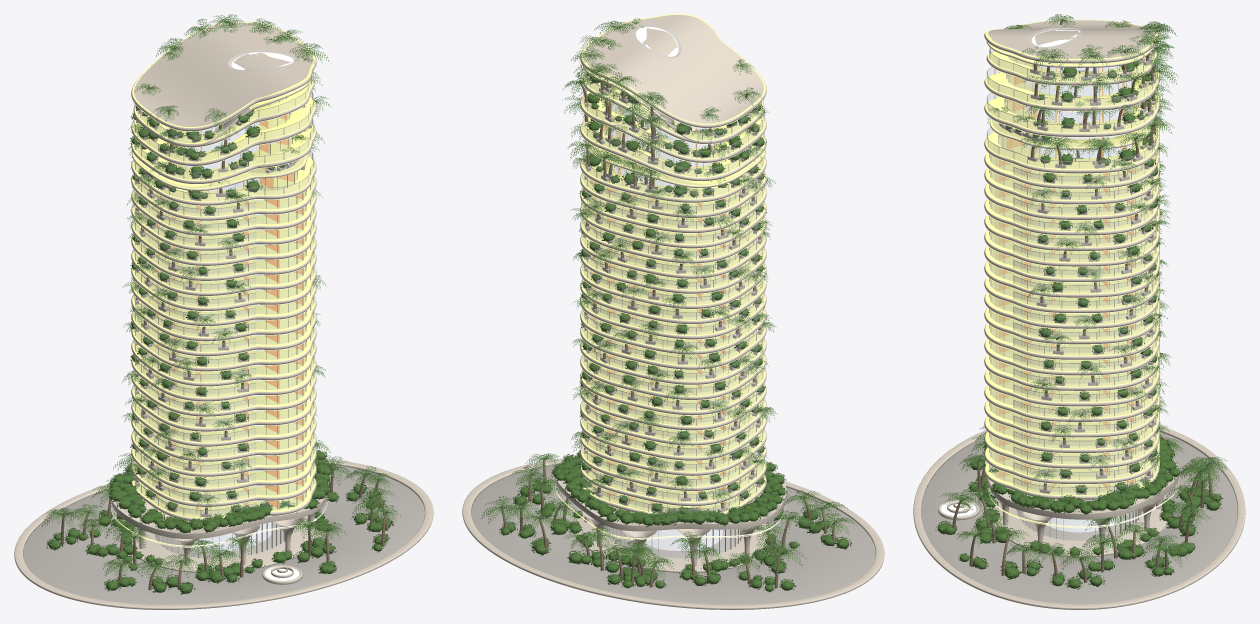
Rendered from isabella_v2.glb.
3 views of the same model, side by side, from view 1: azimuth 30°, elevation 25°; view 2: azimuth 150°, elevation 25°; view 3: azimuth 270°, elevation 25° (orthographic). The views are drawn at different scales.
Visible parts, largest first — view 1: Fascia_Pearl_Soffit_Amber, Leaf, Fascia_Pearl, Glass_Mullion_Silver, RailGlass.001, plaza, Mullion_Silver, LED_Amber, PartyWall.001, Trunk, Interior_Wall, Lobby_Interior (+1 smaller); view 2: Fascia_Pearl_Soffit_Amber, Leaf, Fascia_Pearl, RailGlass.001, plaza, Glass_Mullion_Silver, Mullion_Silver, LED_Amber, Trunk, PartyWall.001, Interior_Wall, Lobby_Interior; view 3: Fascia_Pearl_Soffit_Amber, Leaf, RailGlass.001, Glass_Mullion_Silver, Fascia_Pearl, plaza, Mullion_Silver, LED_Amber, PartyWall.001, Trunk, Interior_Wall, Lobby_Interior (+1 smaller).
Boxes of the visible parts, x1,y1,x2,y2 form: Fascia_Pearl_Soffit_Amber: (111, 22, 329, 539); Leaf: (40, 14, 400, 594); Fascia_Pearl: (14, 22, 433, 609); Glass_Mullion_Silver: (141, 97, 306, 558); RailGlass.001: (134, 78, 313, 517); plaza: (23, 465, 424, 604); Mullion_Silver: (133, 76, 314, 517); LED_Amber: (111, 80, 329, 547); PartyWall.001: (144, 104, 302, 513); Trunk: (60, 48, 388, 590); Interior_Wall: (183, 122, 275, 501); Lobby_Interior: (177, 522, 272, 551); Fascia_Pearl_Soffit_Amber: (555, 14, 786, 531); Leaf: (481, 18, 856, 592); Fascia_Pearl: (462, 14, 884, 609); RailGlass.001: (583, 71, 763, 513); plaza: (471, 464, 875, 604); Glass_Mullion_Silver: (588, 87, 756, 558); Mullion_Silver: (582, 72, 764, 513); LED_Amber: (555, 66, 786, 539); Trunk: (501, 73, 834, 588); PartyWall.001: (592, 90, 753, 510); Interior_Wall: (609, 103, 714, 188); Lobby_Interior: (626, 529, 722, 550); Fascia_Pearl_Soffit_Amber: (984, 20, 1178, 519); Leaf: (935, 14, 1226, 589); RailGlass.001: (987, 48, 1156, 494); Glass_Mullion_Silver: (989, 56, 1148, 540); Fascia_Pearl: (913, 20, 1245, 609); plaza: (921, 432, 1237, 604); Mullion_Silver: (986, 46, 1157, 494); LED_Amber: (987, 43, 1178, 528); PartyWall.001: (998, 58, 1146, 490); Trunk: (952, 21, 1212, 582); Interior_Wall: (1026, 65, 1132, 158); Lobby_Interior: (1046, 515, 1122, 532).
Size of the model in its own units: 165 by 196 by 119.
